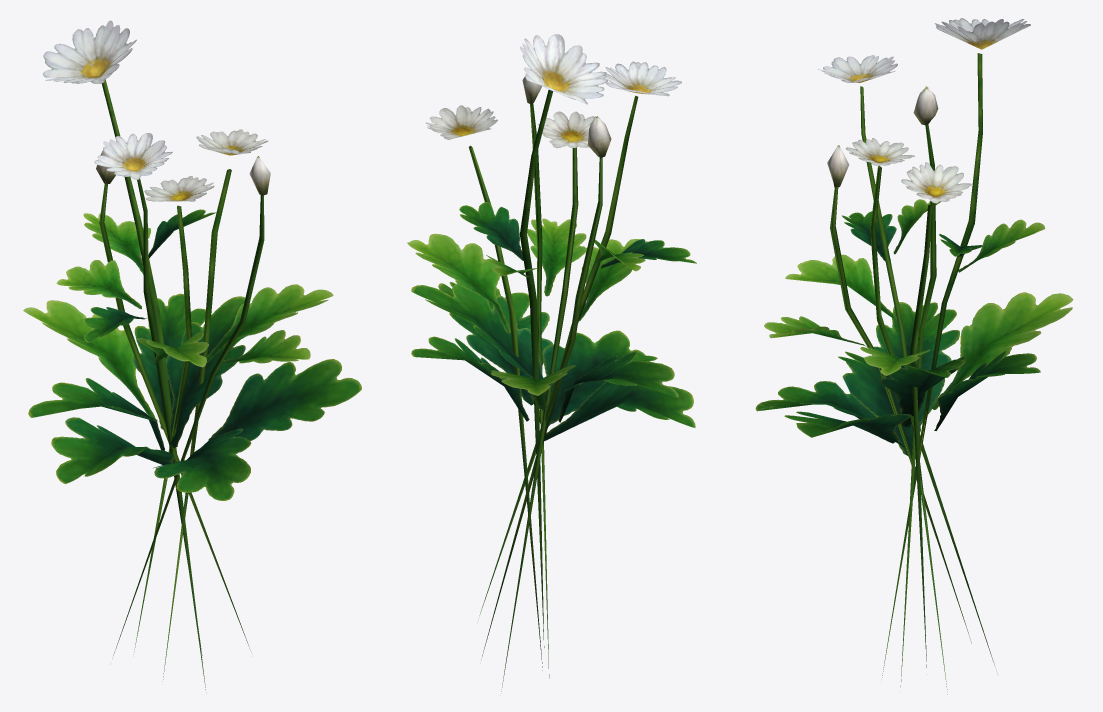
File: S_Plant_Blue006.FBX
3 views of the same model, side by side, from view 1: azimuth 30°, elevation 25°; view 2: azimuth 150°, elevation 25°; view 3: azimuth 270°, elevation 25° (orthographic). The views are drawn at different scales.
Visible parts, largest first — view 1: S_Plant_Blue006; view 2: S_Plant_Blue006; view 3: S_Plant_Blue006.
Boxes of the visible parts, box(x1,y1,x2,y2) form: S_Plant_Blue006: box(23, 20, 361, 692); S_Plant_Blue006: box(407, 34, 696, 691); S_Plant_Blue006: box(755, 18, 1073, 694).
Bounding box in the file's own units: 423 × 904 × 433.
Materials: 1 (1 with a texture image).
